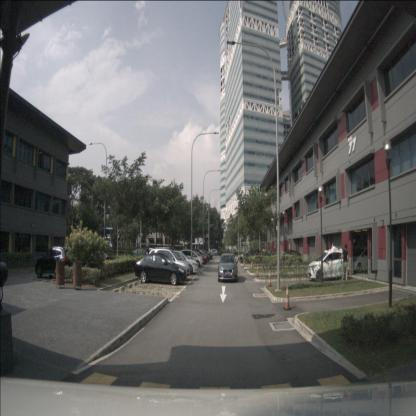cone: (282, 284, 292, 310), (267, 270, 272, 286), (256, 263, 259, 278), (250, 260, 254, 270), (243, 260, 246, 268)
